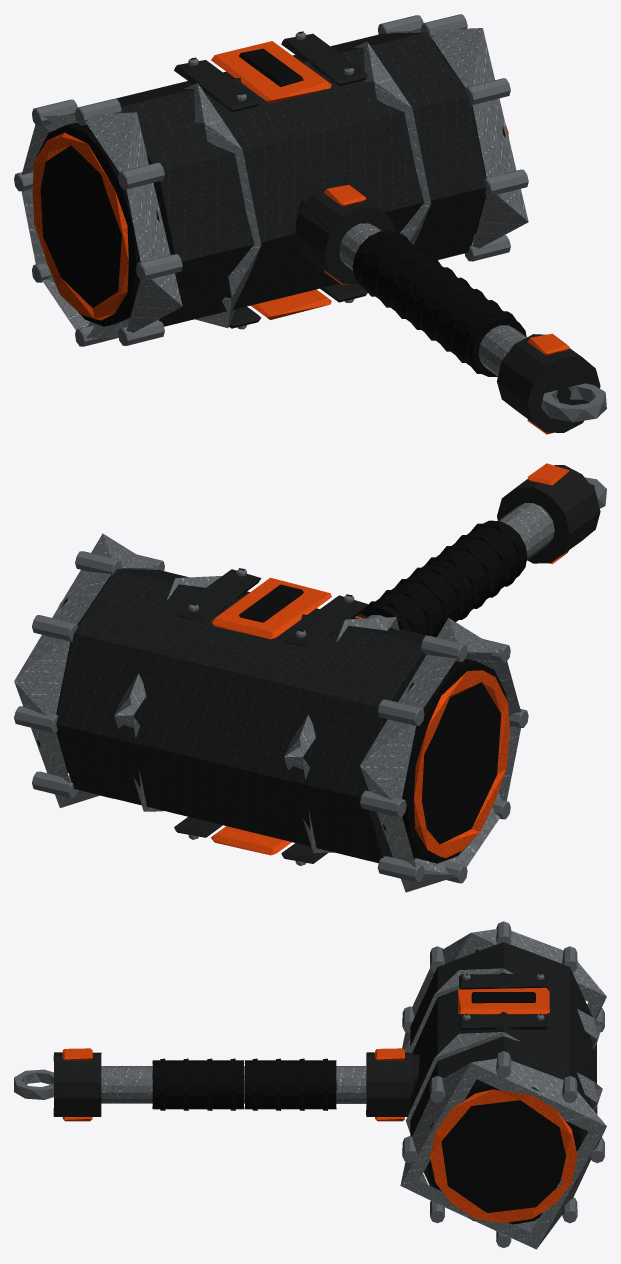
File: impulse-hammer-short-grip-lod1.glb
The picture shows the model from 3 angles, top to bottom: view 1: azimuth 30°, elevation 25°; view 2: azimuth 150°, elevation 25°; view 3: azimuth 270°, elevation 25°; orthographic projection. The views are drawn at different scales.
Parts seen in each view (by area): view 1: Octagonal impulse housing, Recessed striking plate, Heavy endcap steel cage, Heavy endcap steel cage.001, Locking haft joint, Locking haft joint.001, Rubber impact grip sleeve, Endcap orange indicator lip, Rubber impact grip sleeve.001, Steel housing compression band, Central orange service panel.001, Steel housing compression band.001 (+19 smaller); view 2: Octagonal impulse housing, Recessed striking plate, Heavy endcap steel cage, Heavy endcap steel cage.001, Locking haft joint, Endcap orange indicator lip, Rubber impact grip sleeve, Rubber impact grip sleeve.001, Central orange service panel.001, Dark service access cover.003, Dark service access cover.002, Steel housing compression band (+15 smaller); view 3: Octagonal impulse housing, Recessed striking plate.001, Heavy endcap steel cage.001, Endcap orange indicator lip.001, Rubber impact grip sleeve, Rubber impact grip sleeve.001, Machined central haft, Heavy endcap steel cage, Locking haft joint, Locking haft joint.001, Steel housing compression band.001, Central orange service panel.001 (+5 smaller).
Part boxes in pixels (x1,y1,x2,y2): Octagonal impulse housing: (114, 32, 486, 326); Recessed striking plate: (37, 122, 159, 326); Heavy endcap steel cage: (21, 112, 182, 338); Heavy endcap steel cage.001: (388, 28, 528, 248); Locking haft joint: (497, 334, 600, 432); Locking haft joint.001: (295, 185, 395, 284); Rubber impact grip sleeve: (412, 275, 526, 376); Endcap orange indicator lip: (32, 132, 128, 320); Rubber impact grip sleeve.001: (352, 231, 457, 329); Steel housing compression band: (184, 83, 261, 327); Central orange service panel.001: (211, 41, 331, 103); Steel housing compression band.001: (354, 41, 430, 244); Octagonal impulse housing: (56, 569, 427, 863); Recessed striking plate: (383, 658, 506, 863); Heavy endcap steel cage: (360, 618, 520, 892); Heavy endcap steel cage.001: (14, 533, 154, 807); Locking haft joint: (497, 465, 600, 563); Endcap orange indicator lip: (414, 670, 509, 857); Rubber impact grip sleeve: (422, 520, 527, 617); Rubber impact grip sleeve.001: (360, 564, 467, 636); Central orange service panel.001: (211, 577, 331, 639); Dark service access cover.003: (174, 569, 261, 621); Dark service access cover.002: (281, 595, 368, 647); Steel housing compression band: (284, 617, 399, 853); Octagonal impulse housing: (410, 942, 597, 1187); Recessed striking plate.001: (427, 1079, 582, 1224); Heavy endcap steel cage.001: (400, 1058, 606, 1249); Endcap orange indicator lip.001: (430, 1089, 577, 1222); Rubber impact grip sleeve: (152, 1060, 244, 1109); Rubber impact grip sleeve.001: (244, 1060, 336, 1109); Machined central haft: (101, 1066, 366, 1103); Heavy endcap steel cage: (402, 929, 606, 1052); Locking haft joint: (53, 1052, 101, 1116); Locking haft joint.001: (366, 1052, 413, 1116); Steel housing compression band.001: (406, 1032, 602, 1132); Central orange service panel.001: (458, 987, 549, 1014).
Size of the model in its own units: 0.482 by 0.2909 by 0.835.
Materials: 4 (4 with a texture image).
